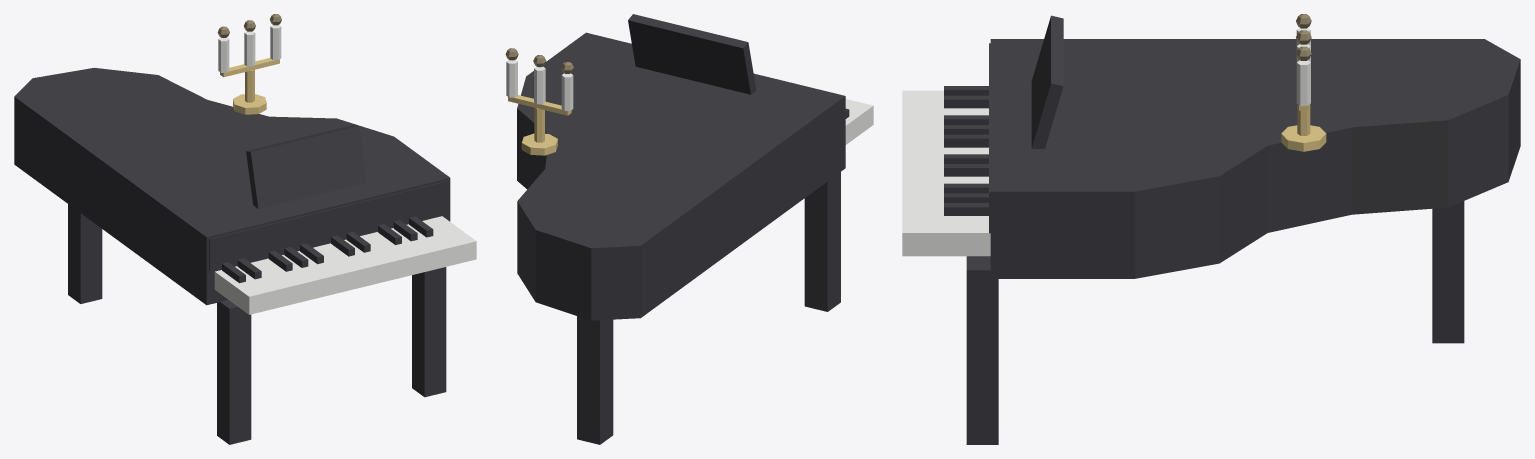
File: CR_Piano.fbx
3 renders of one model, left to right at view 1: azimuth 30°, elevation 25°; view 2: azimuth 150°, elevation 25°; view 3: azimuth 270°, elevation 25°, orthographic. The views are drawn at different scales.
Parts seen in each view (by area): view 1: CR_Piano; view 2: CR_Piano; view 3: CR_Piano.
Part boxes in pixels (bbox=[...]): CR_Piano: bbox=[14, 14, 476, 444]; CR_Piano: bbox=[505, 14, 873, 444]; CR_Piano: bbox=[902, 14, 1520, 444].
Bounding box in the file's own units: 1.12 × 1.28 × 1.93.
